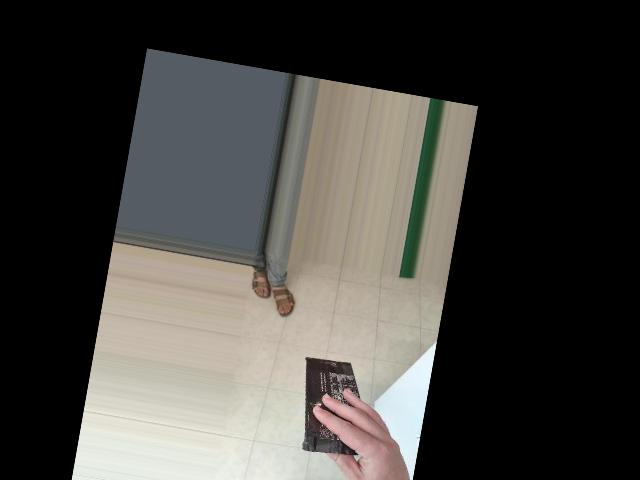chocolate: (216, 314, 344, 416)
